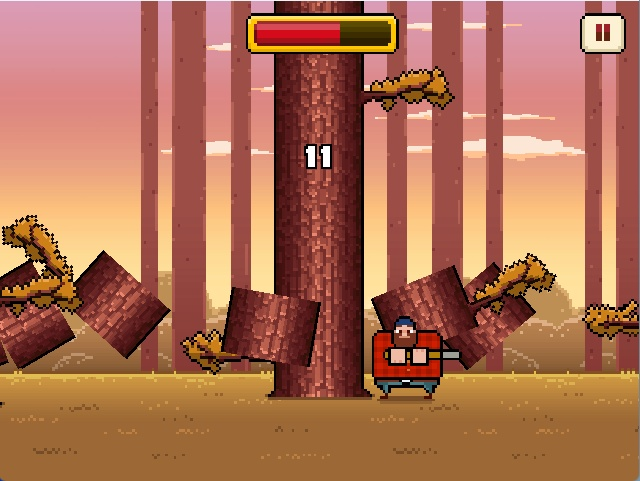right_obs: (358, 63, 463, 116)
timberman: (366, 300, 469, 408)
